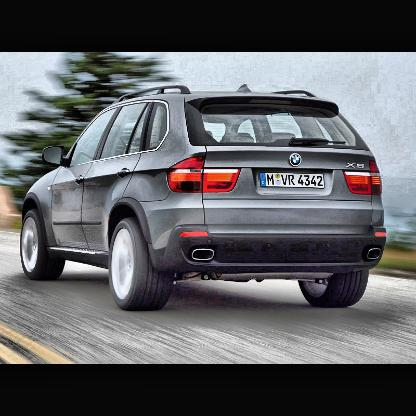BMW X5 SUV 2007: (21, 84, 394, 314)
